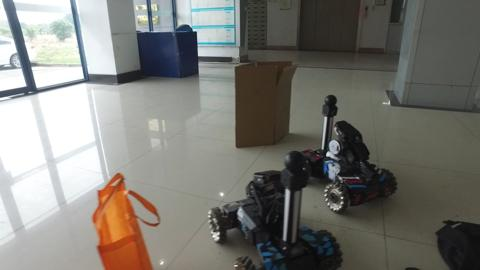bag: (92, 173, 146, 270)
chariot: (205, 151, 346, 270), (304, 88, 396, 211)
